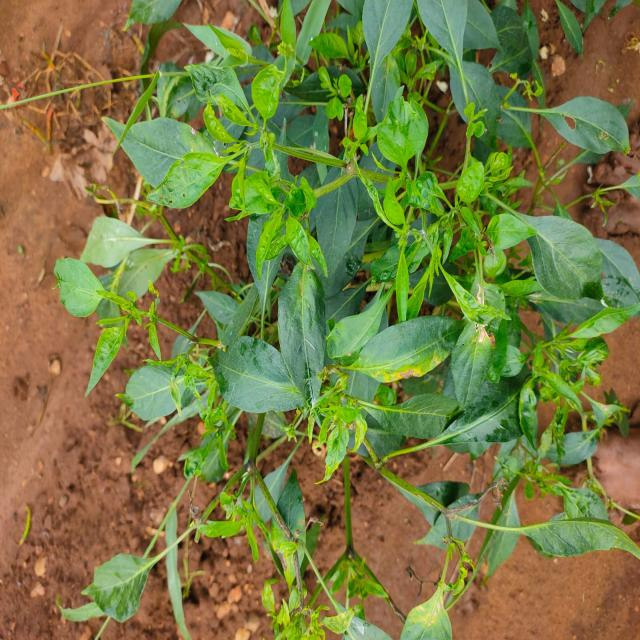Moko: (150, 38, 334, 270), (331, 75, 518, 294), (478, 282, 640, 500), (64, 250, 187, 401), (176, 452, 310, 590), (275, 358, 382, 496), (372, 531, 495, 640), (244, 556, 362, 640), (148, 310, 227, 428)
